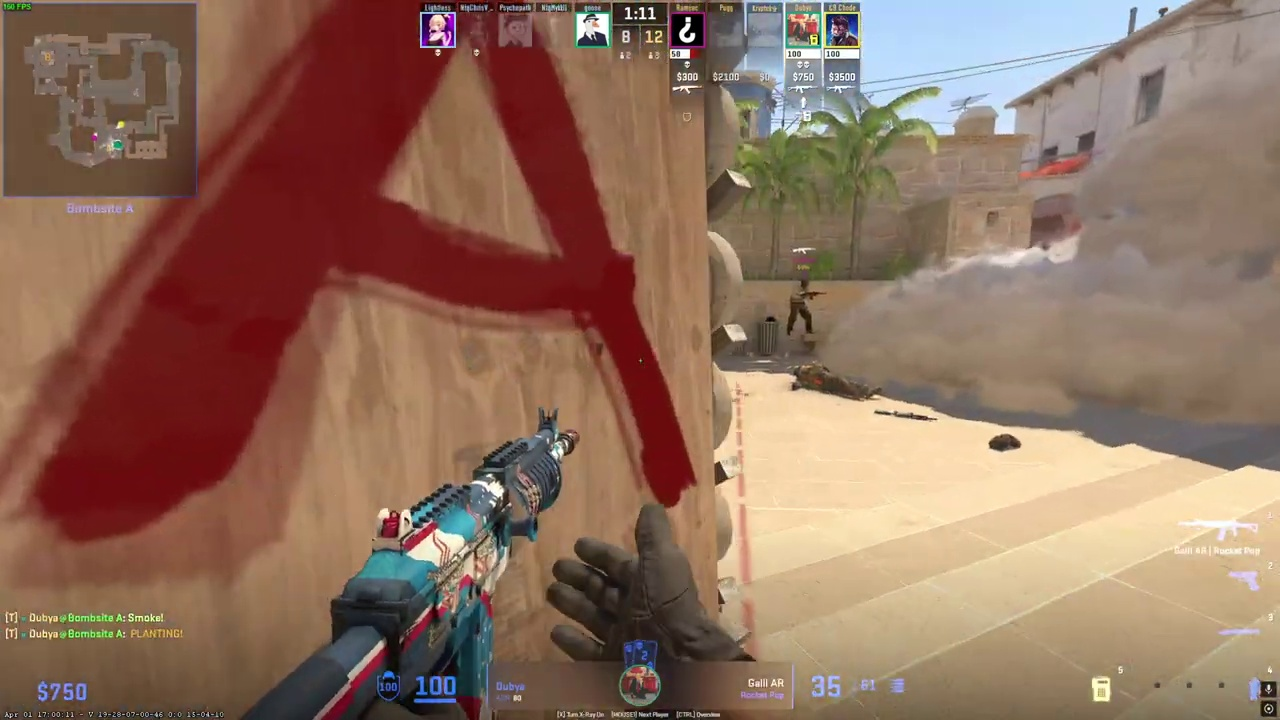Terrorist: (787, 279, 815, 336)
